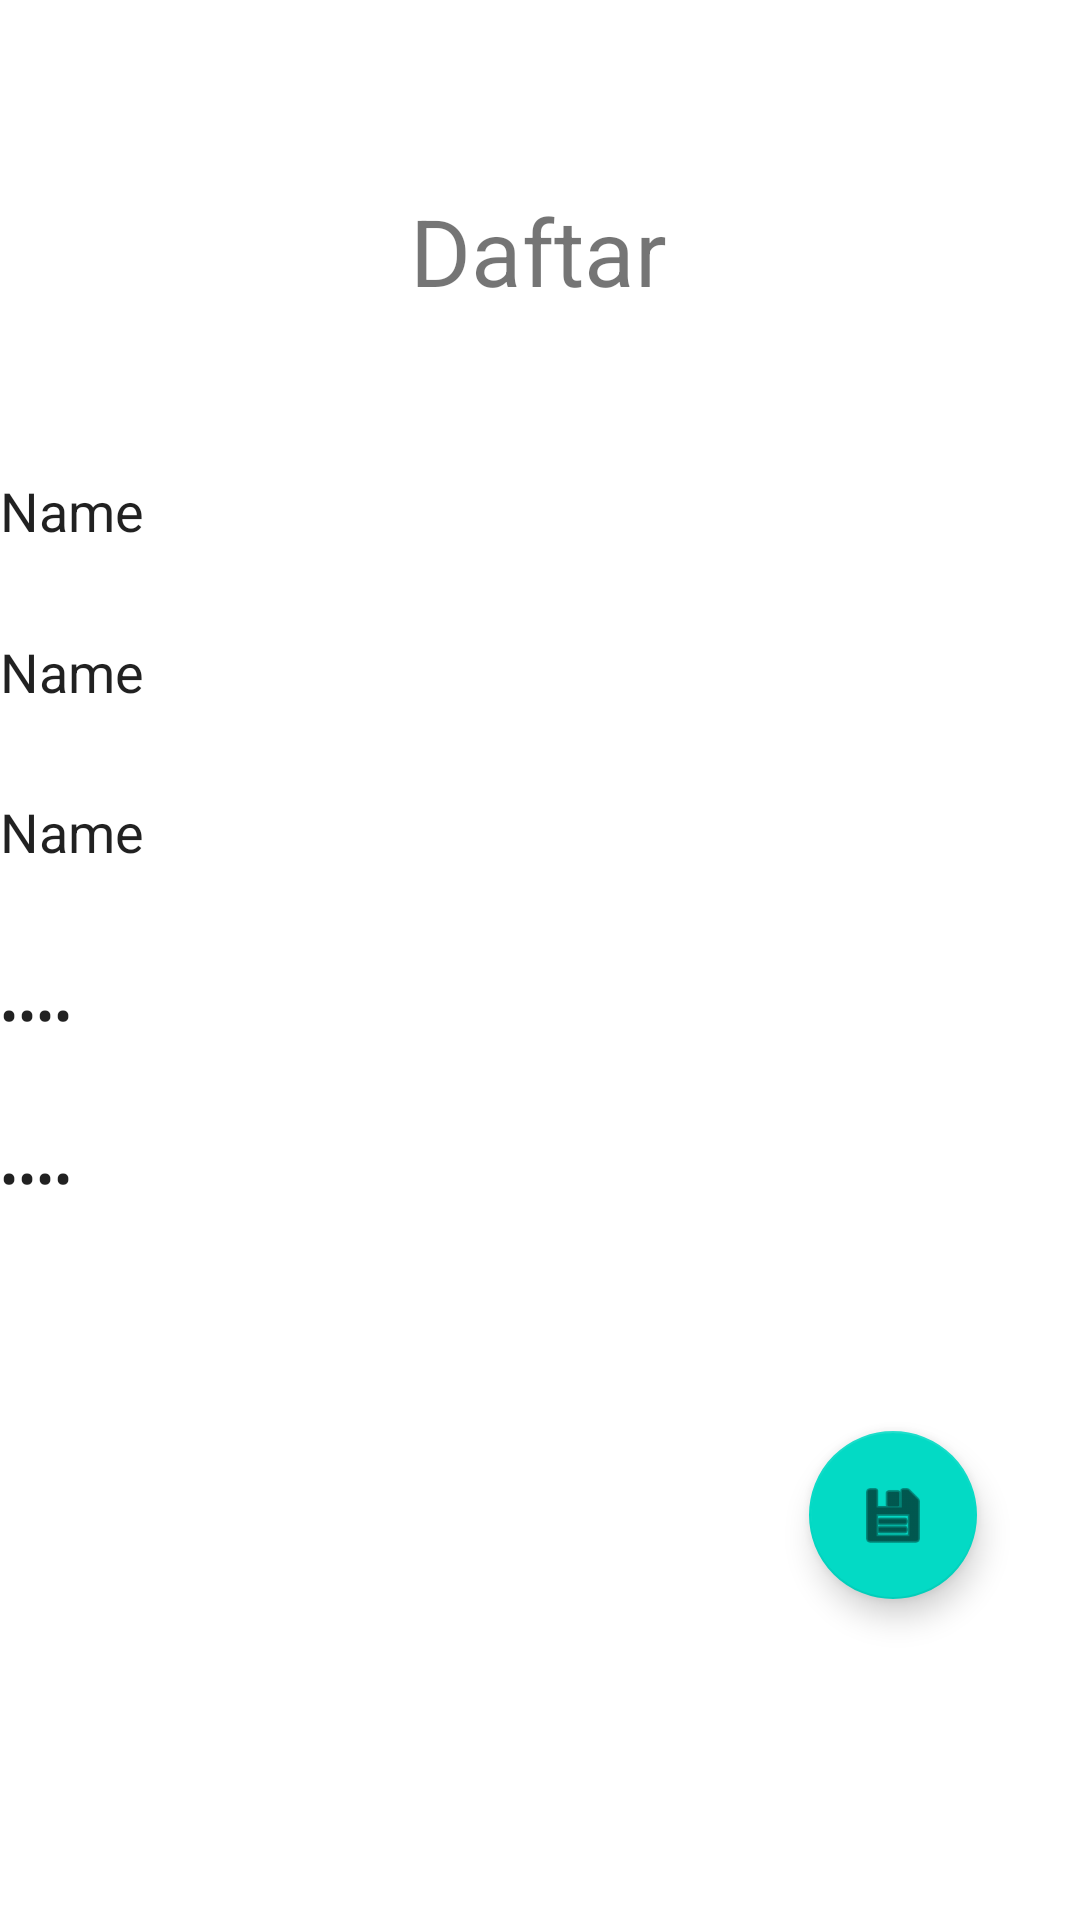

Screen size 1080px x 1920px. Icon name, then its center in pixels as (x=x, y=y):
save: (x=893, y=1515)
